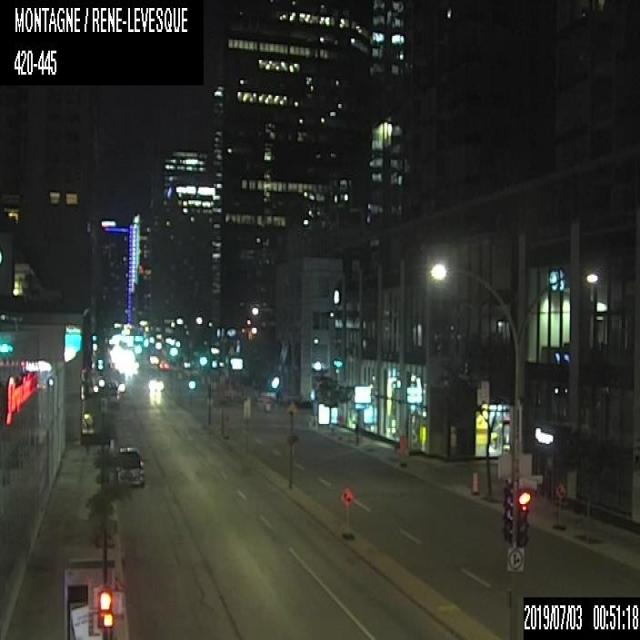construction: (341, 486, 354, 534), (554, 476, 566, 525), (398, 434, 407, 466)
vehicle: (112, 442, 147, 490), (146, 376, 163, 395), (158, 358, 169, 369)
